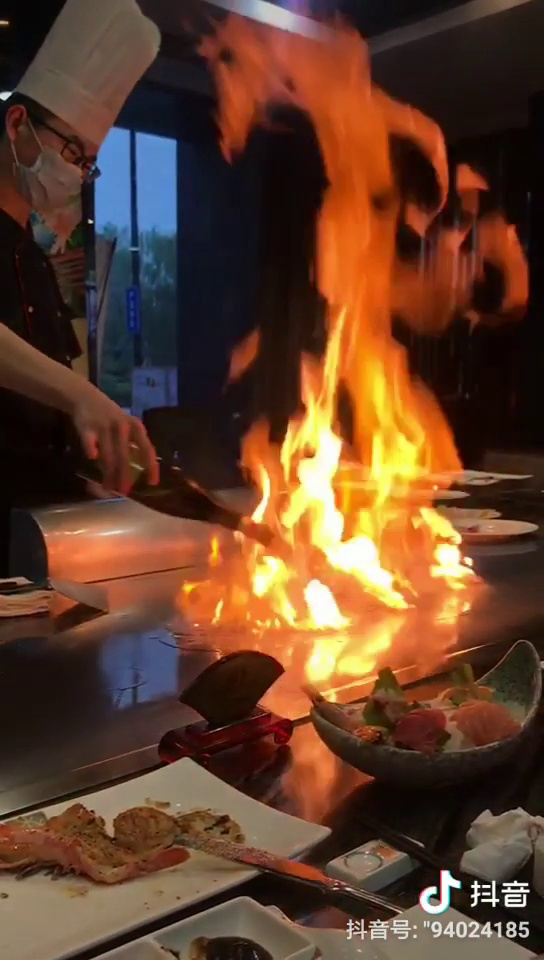fire: (215, 341, 471, 618)
